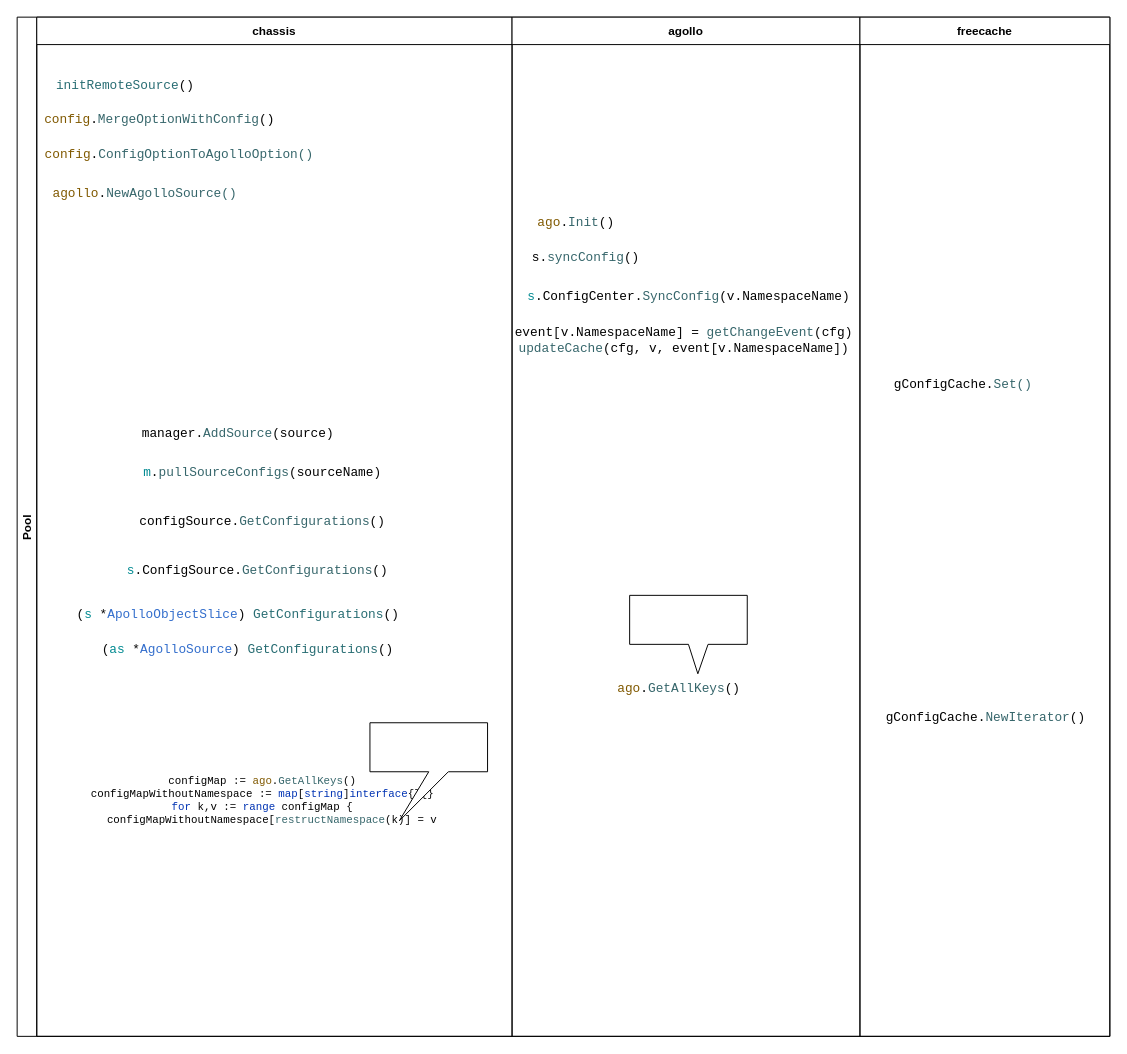
The diagram is 1127 pixels wide and 1054 high, and some of its shapes have lost their labels. Each missing label, with the centre of its shape:
key = namespace.key: (428,771)
key = namespace@key: (688,634)
